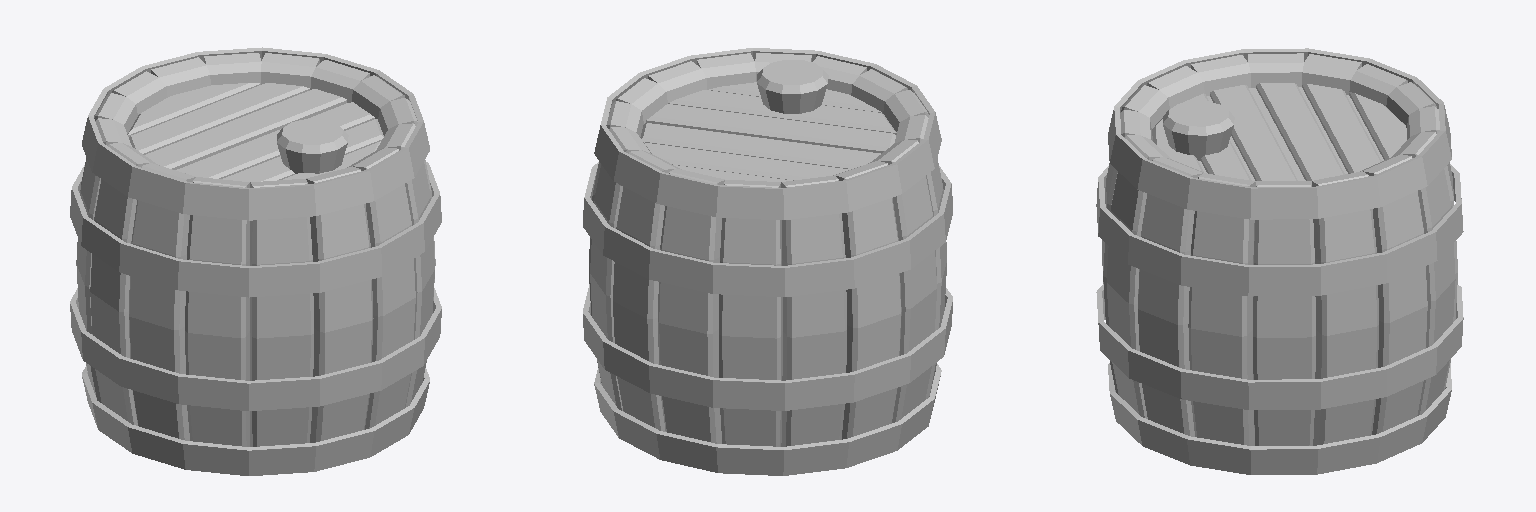
Rendered from Water.obj.
3 views of the same model, side by side, from view 1: azimuth 30°, elevation 25°; view 2: azimuth 150°, elevation 25°; view 3: azimuth 270°, elevation 25° (orthographic).
Parts seen in each view (by area): view 1: Water; view 2: Water; view 3: Water.
Part boxes in pixels (left/top/right/bottom): Water: left=70, top=47, right=441, bottom=475; Water: left=583, top=48, right=952, bottom=475; Water: left=1096, top=48, right=1463, bottom=474.
Bounding box in the file's own units: 1.6 × 1.44 × 1.6.